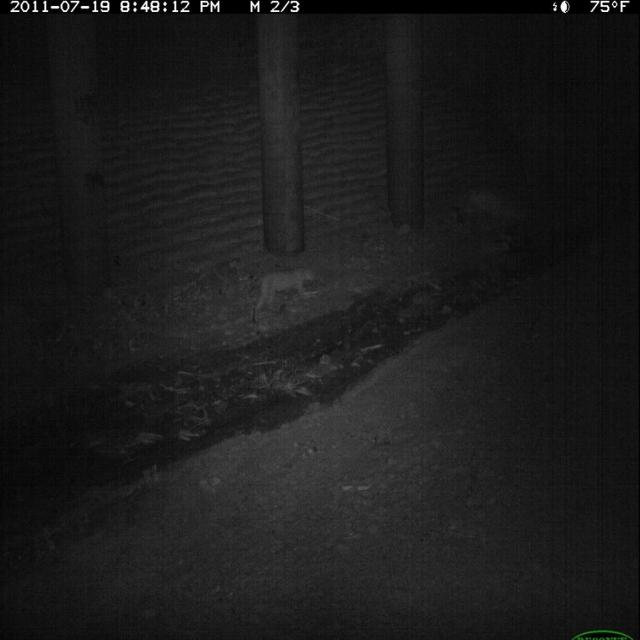bobcat: (250, 260, 319, 330)
